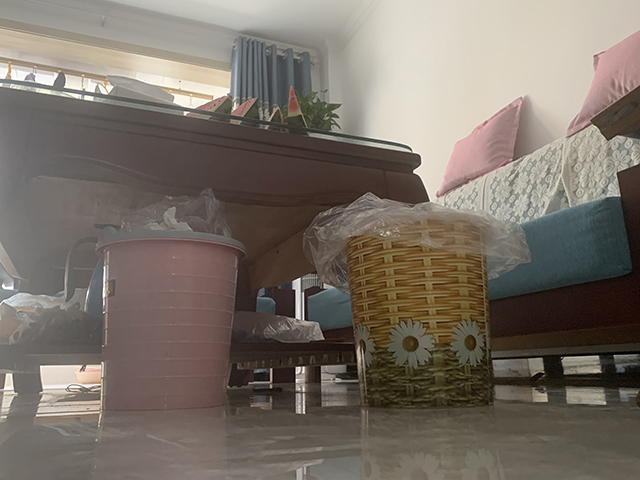sofa: (428, 28, 640, 384)
stool: (1, 78, 431, 399)
trashcan: (344, 201, 498, 407), (93, 229, 247, 413)
wire: (65, 381, 101, 397)
